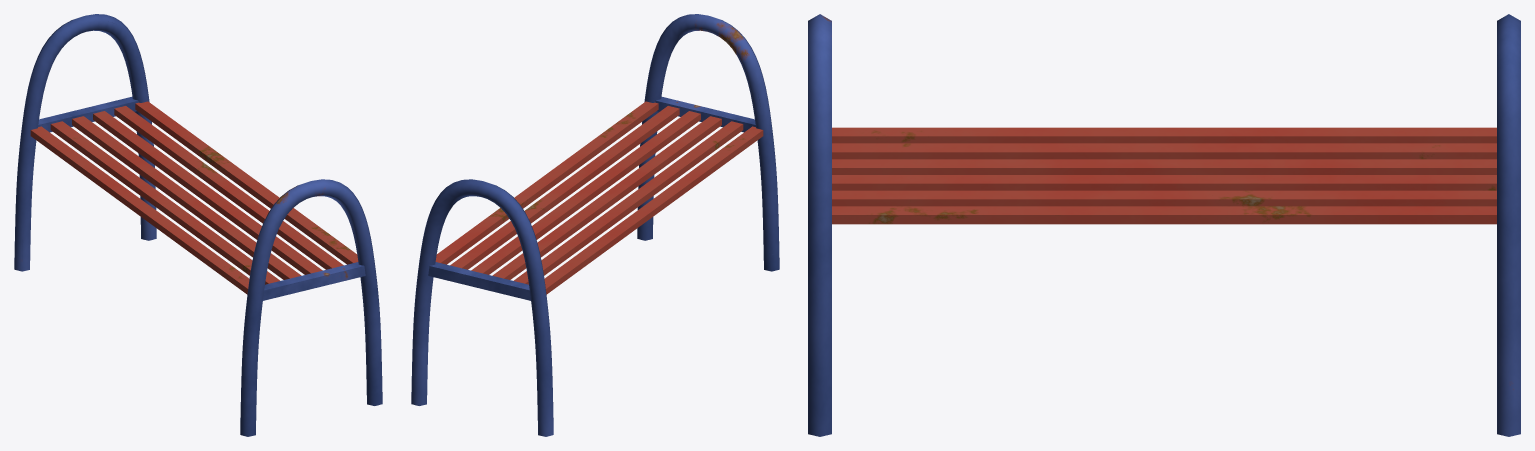
File: Bench.fbx
3 views of the same model, side by side, from view 1: azimuth 30°, elevation 25°; view 2: azimuth 150°, elevation 25°; view 3: azimuth 270°, elevation 25° (orthographic). The views are drawn at different scales.
Parts seen in each view (by area): view 1: Cube.002, BézierCurve, Cube; view 2: Cube.002, BézierCurve, Cube; view 3: Cube.002, BézierCurve.
Boxes of the visible parts, x1=… form: Cube.002: x1=30, y1=101, x2=358, y2=294; BézierCurve: x1=14, y1=14, x2=382, y2=436; Cube: x1=38, y1=96, x2=365, y2=300; Cube.002: x1=435, y1=101, x2=763, y2=294; BézierCurve: x1=411, y1=14, x2=779, y2=436; Cube: x1=428, y1=96, x2=755, y2=300; Cube.002: x1=832, y1=127, x2=1496, y2=224; BézierCurve: x1=808, y1=14, x2=1520, y2=436.
Bounding box in the file's own units: 72.81 × 116 × 207.
